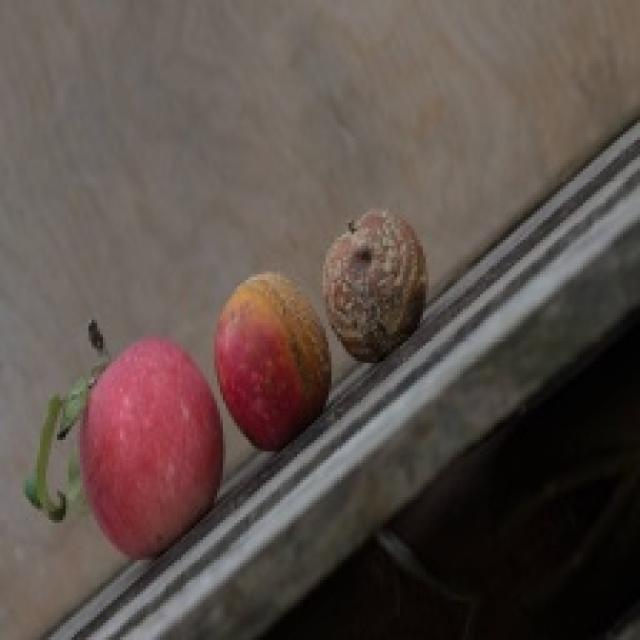100-_ripeness: (82, 339, 212, 554)
rotten_apple: (216, 275, 334, 444), (326, 213, 428, 359)
